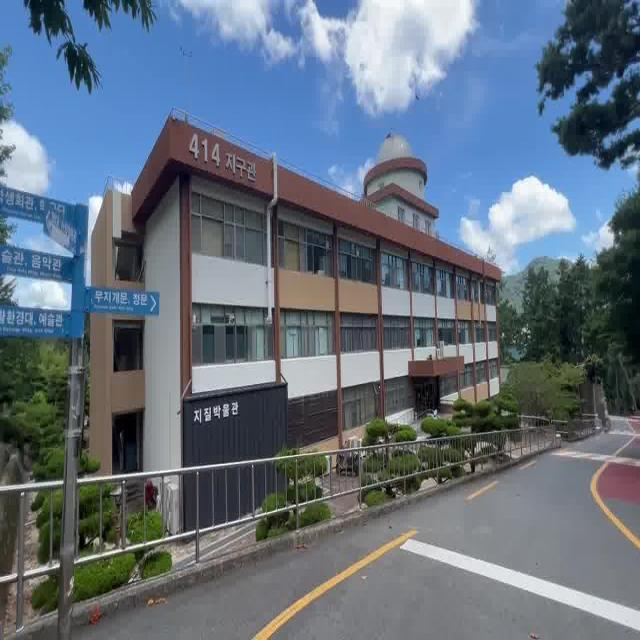building: (94, 127, 502, 442)
